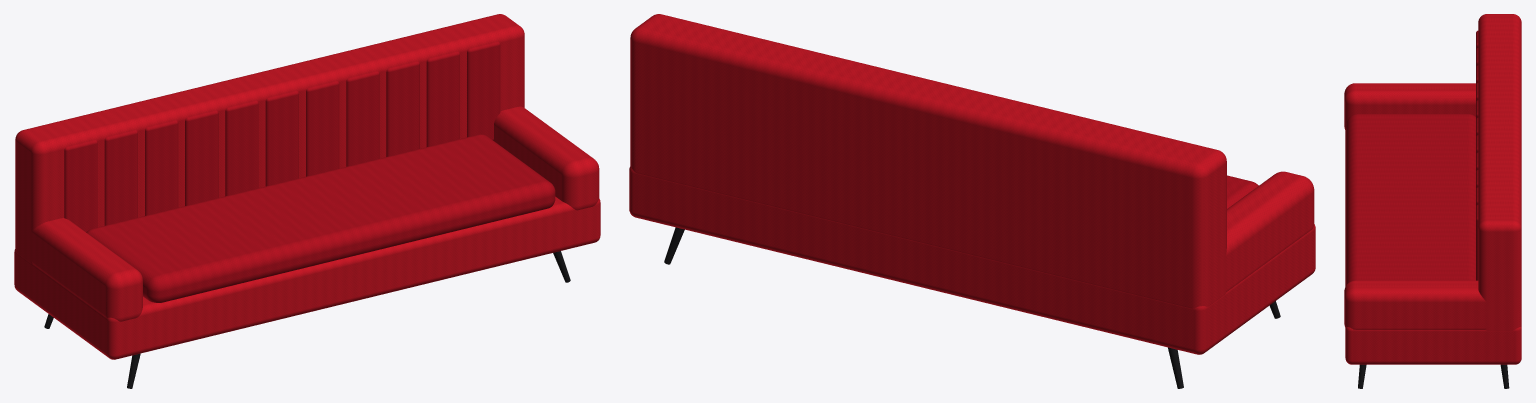
The model's file is divan-comfort.glb.
3 renders of one model, left to right at view 1: azimuth 30°, elevation 25°; view 2: azimuth 150°, elevation 25°; view 3: azimuth 270°, elevation 25°, orthographic. The views are drawn at different scales.
Visible parts, largest first — view 1: furniture; view 2: furniture; view 3: furniture.
Part boxes in pixels (bbox=[...]): furniture: bbox=[14, 14, 600, 388]; furniture: bbox=[629, 14, 1315, 388]; furniture: bbox=[1344, 14, 1521, 388].
Bounding box in the file's own units: 2.2 × 0.8535 × 0.775.
3 materials, 2 textured.
